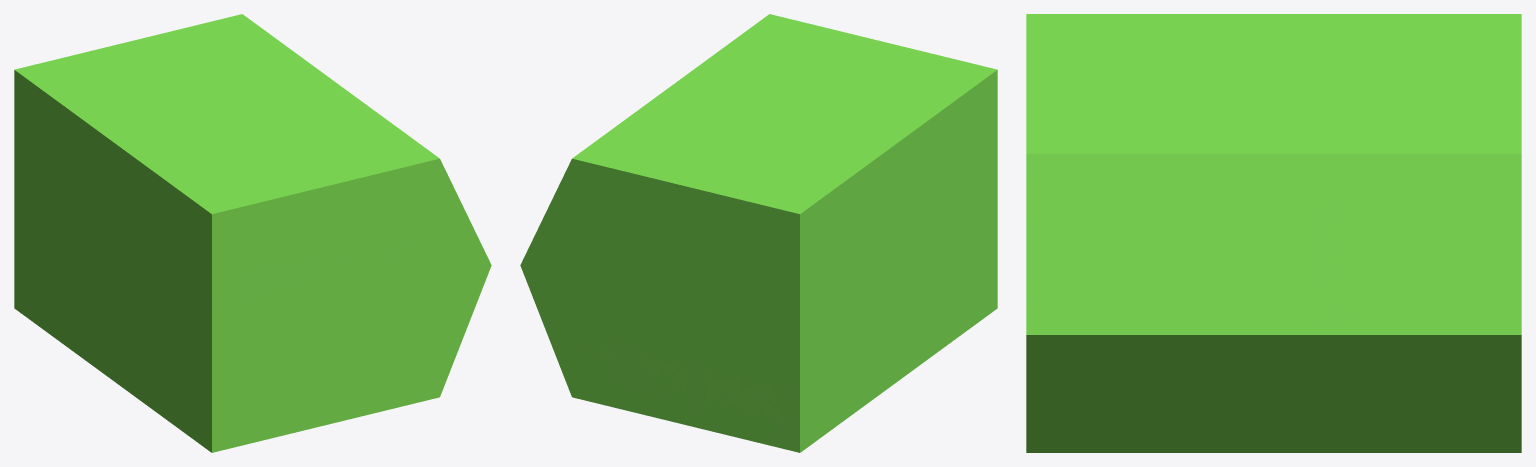
Rendered from testplayerout.fbx.
3 renders of one model, left to right at view 1: azimuth 30°, elevation 25°; view 2: azimuth 150°, elevation 25°; view 3: azimuth 270°, elevation 25°, orthographic. The views are drawn at different scales.
Parts seen in each view (by area): view 1: Cube; view 2: Cube; view 3: Cube.
Part boxes in pixels (box(x1,y1,x2,y2)): Cube: box(14, 14, 491, 452); Cube: box(520, 14, 997, 452); Cube: box(1026, 14, 1521, 452).
Bounding box in the file's own units: 39.26 × 32 × 48.
